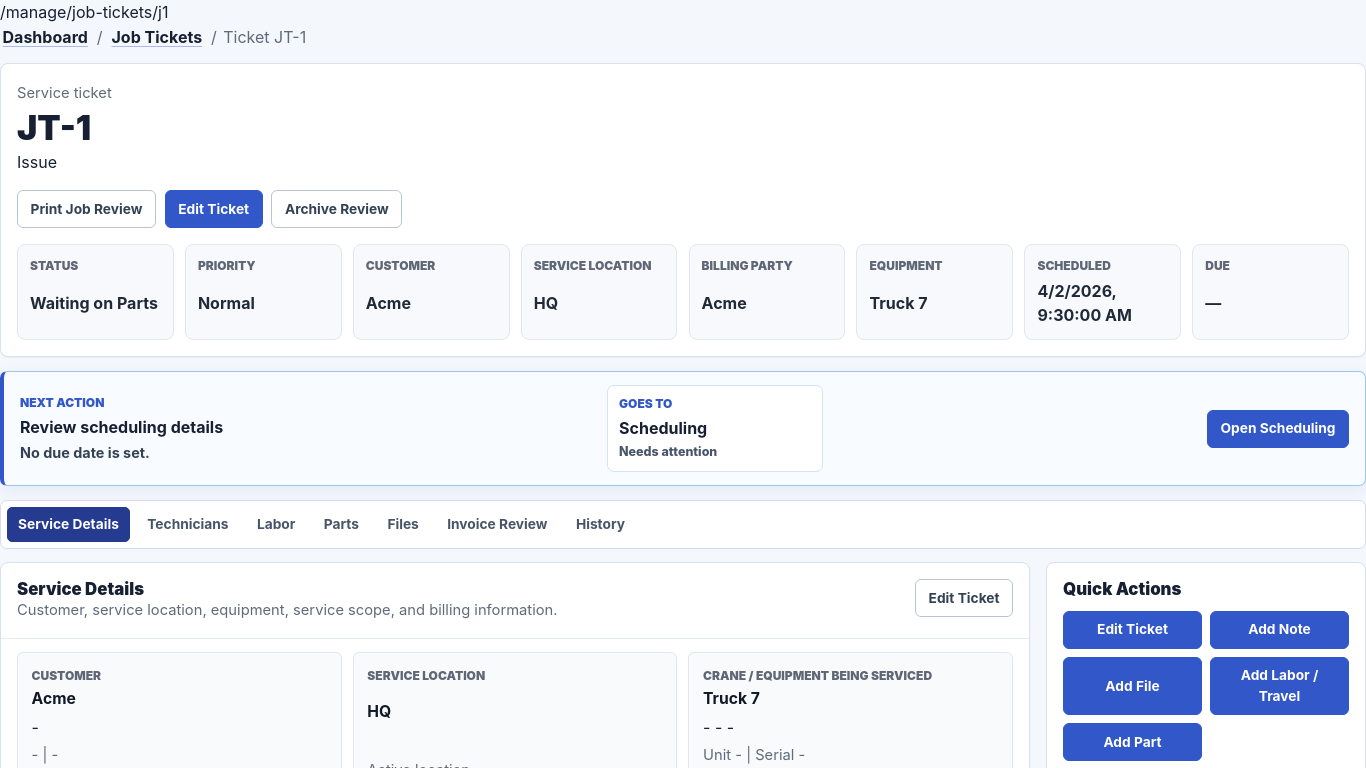
Test case: JobTicketDetailPage › shows the Manager/Admin ticket parts panel and waiting-on-parts summary
The width and height of the screenshot is (1366, 768).
Check: the heading "JT-1" is shown, box [17,107,91,148]
Click the tab "Parts".
click(341, 524)  # box [312,507,370,542]
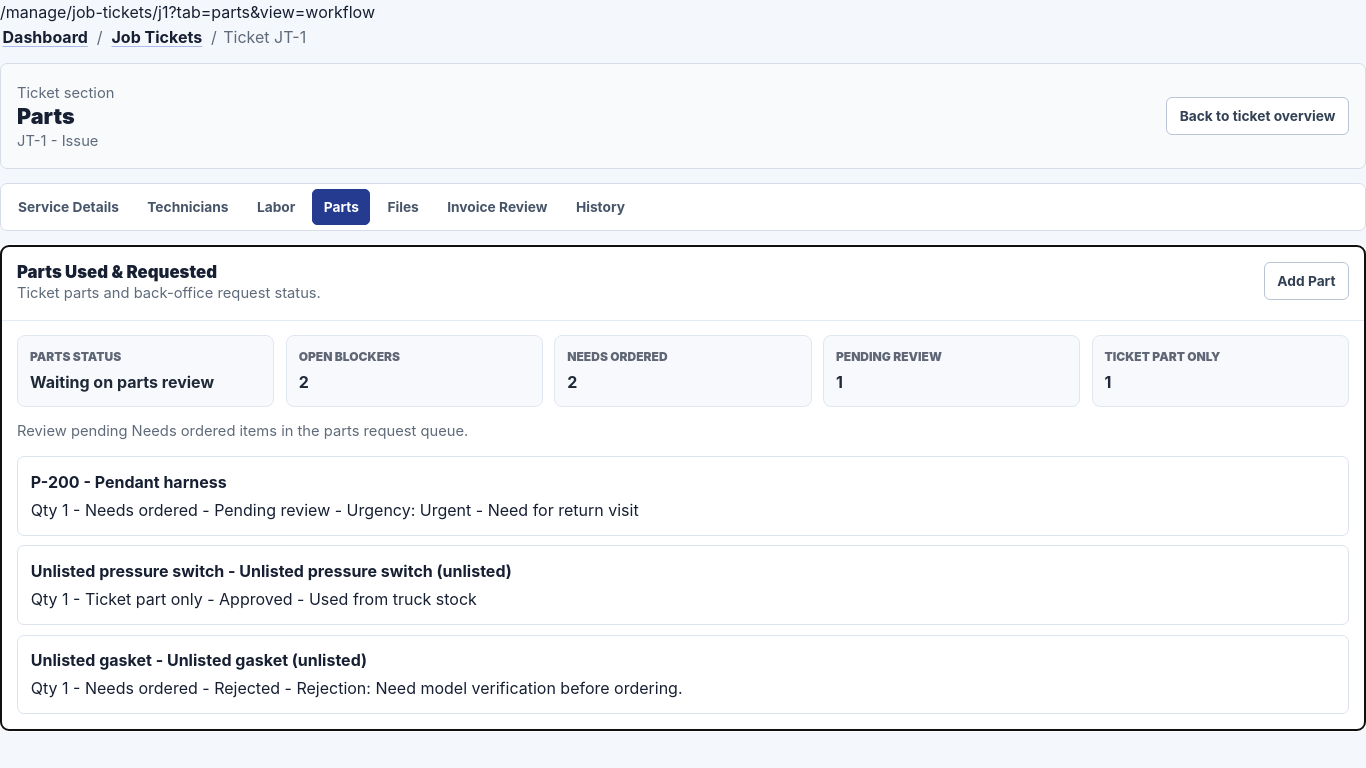
Check: the element named "waiting on parts summary" is shown, box [17,335,1349,407]
Check: the text "Review pending Needs ordered items in the parts request queue." is shown, box [17,422,468,440]
Check: the text "P-200 - Pendant harness" is shown, box [31,472,227,492]
